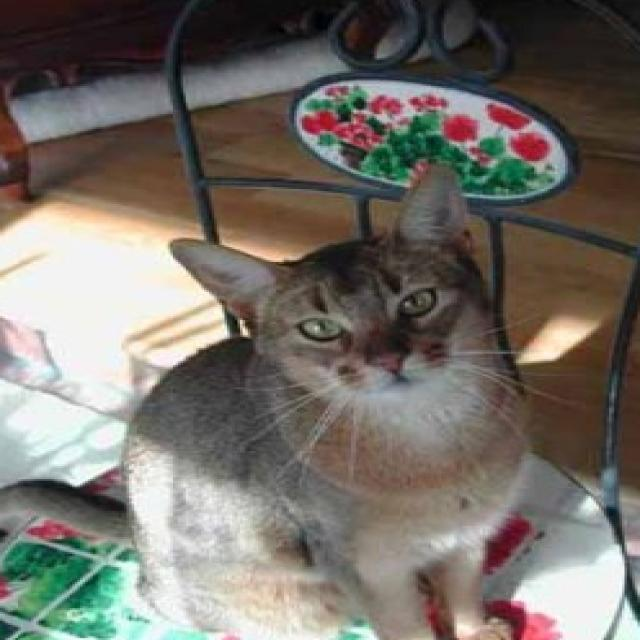Abyssinian: (0, 161, 552, 640)
